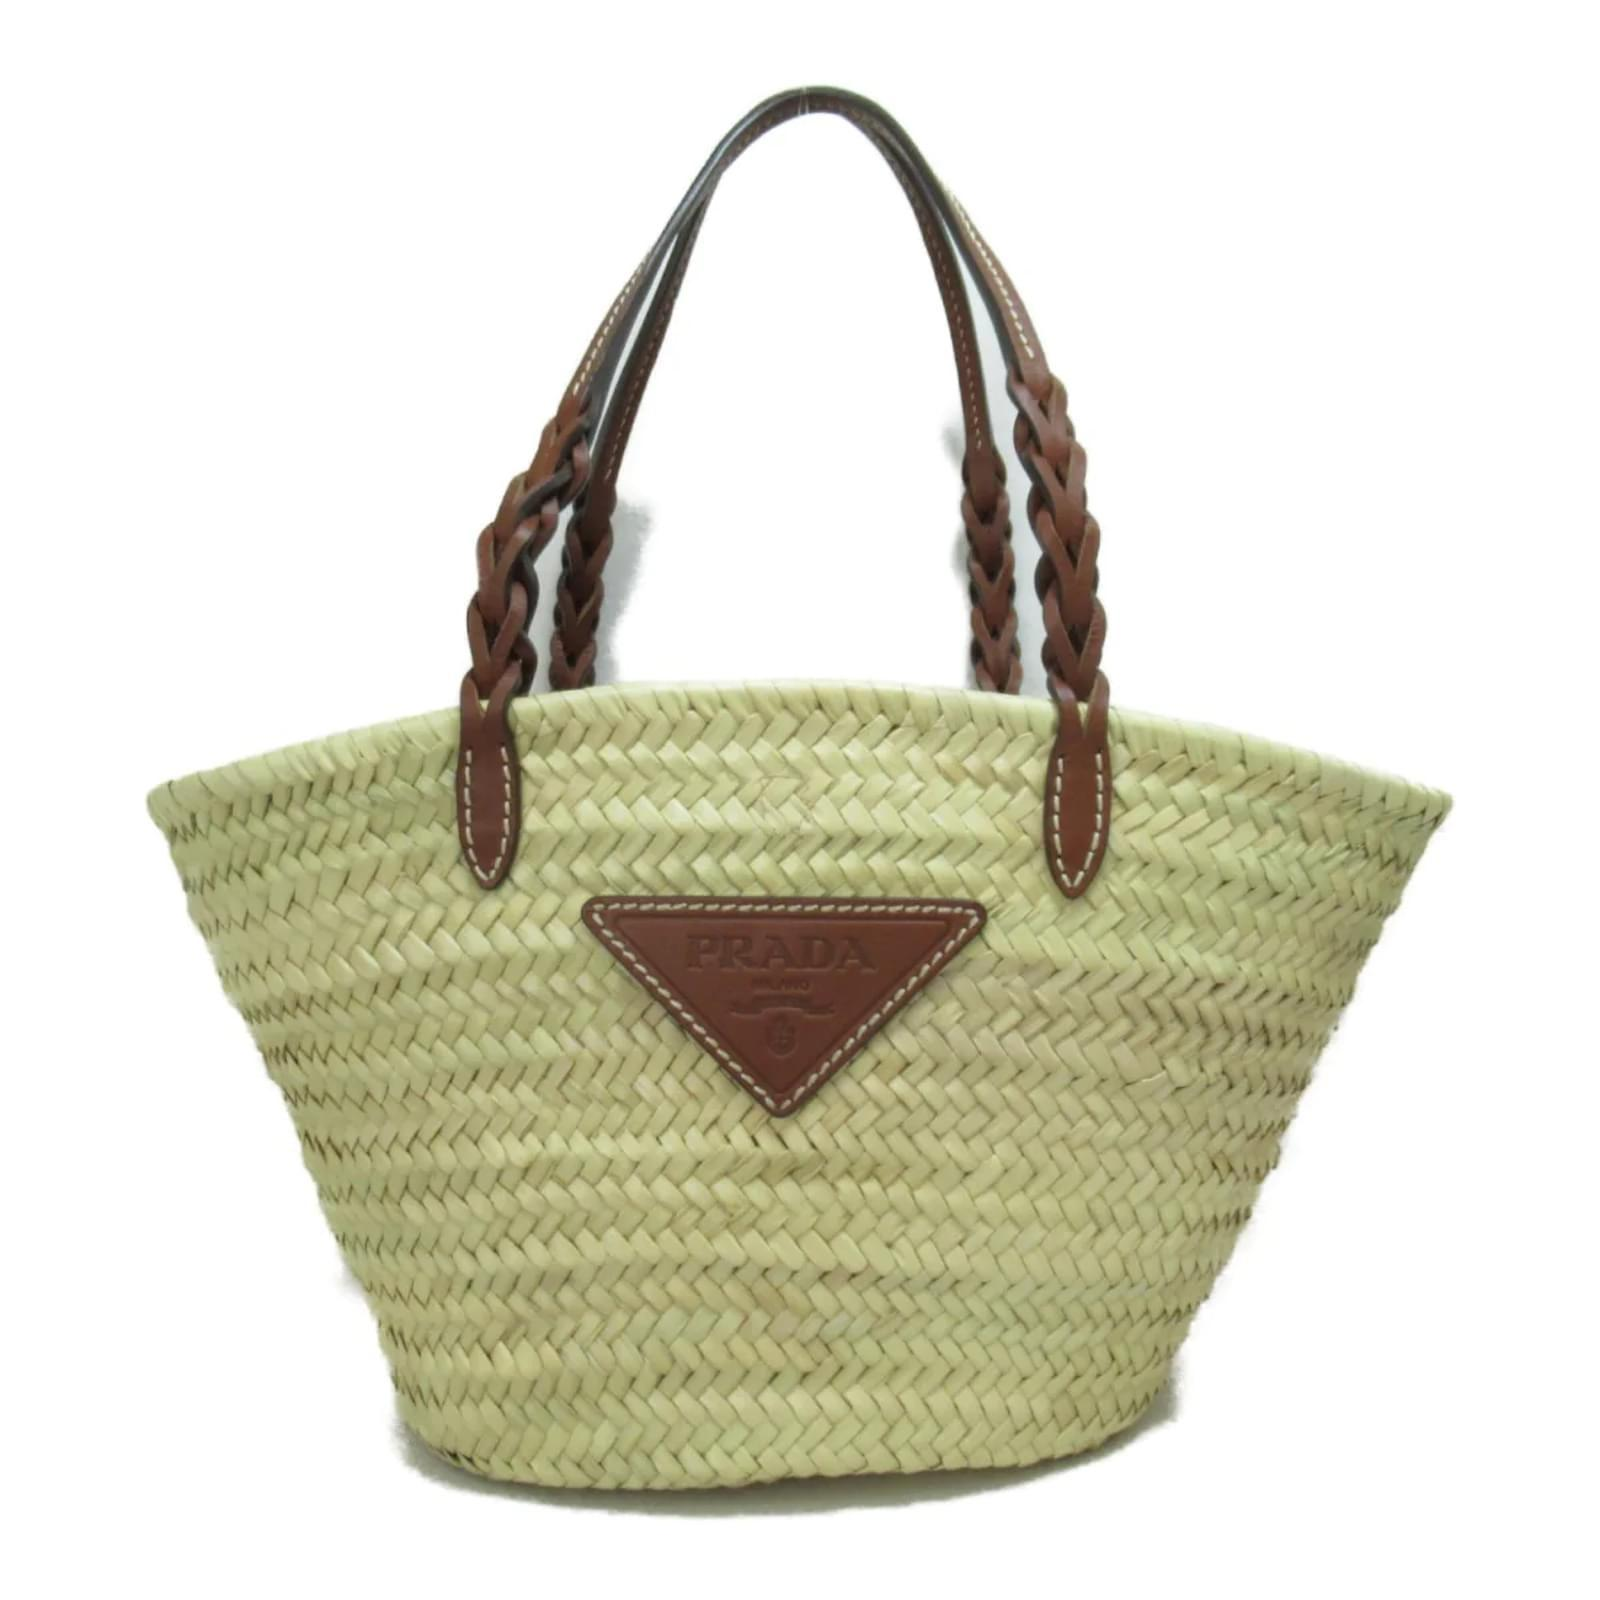PRADA: (580, 895, 986, 1119)
